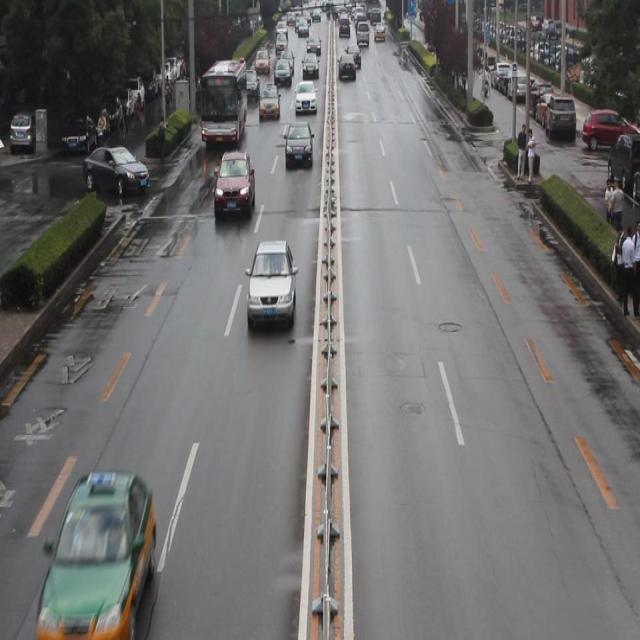car: (38, 470, 155, 633), (246, 242, 297, 329), (83, 145, 149, 200), (213, 150, 256, 221), (284, 122, 314, 166), (258, 84, 280, 120)
van: (201, 60, 246, 144)
